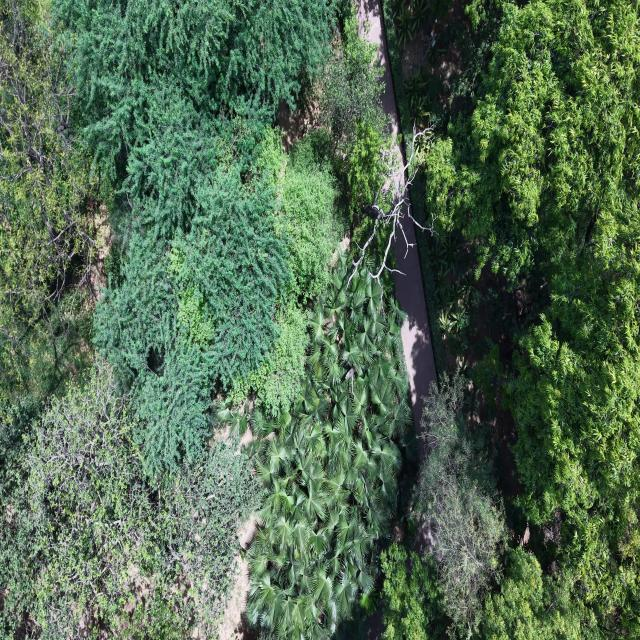DRY_AREA: (394, 217, 436, 434), (394, 218, 436, 434), (394, 218, 436, 433)
VEGETATION_TREE: (0, 0, 639, 639), (0, 0, 411, 638), (421, 0, 639, 637), (425, 2, 639, 627), (55, 2, 331, 471), (0, 365, 260, 638), (230, 13, 389, 417), (248, 254, 414, 638), (52, 0, 334, 221), (94, 155, 290, 470), (424, 2, 637, 282), (381, 374, 602, 639), (508, 275, 639, 629), (0, 0, 97, 412), (230, 130, 347, 416), (414, 375, 506, 635), (319, 16, 391, 246), (349, 128, 432, 279), (474, 547, 601, 639), (279, 134, 347, 305), (482, 547, 599, 639), (319, 15, 384, 155), (227, 306, 308, 416), (429, 234, 486, 351), (380, 0, 425, 139), (381, 543, 443, 639), (346, 124, 386, 245), (391, 0, 450, 50), (404, 68, 431, 120), (397, 3, 415, 48)
